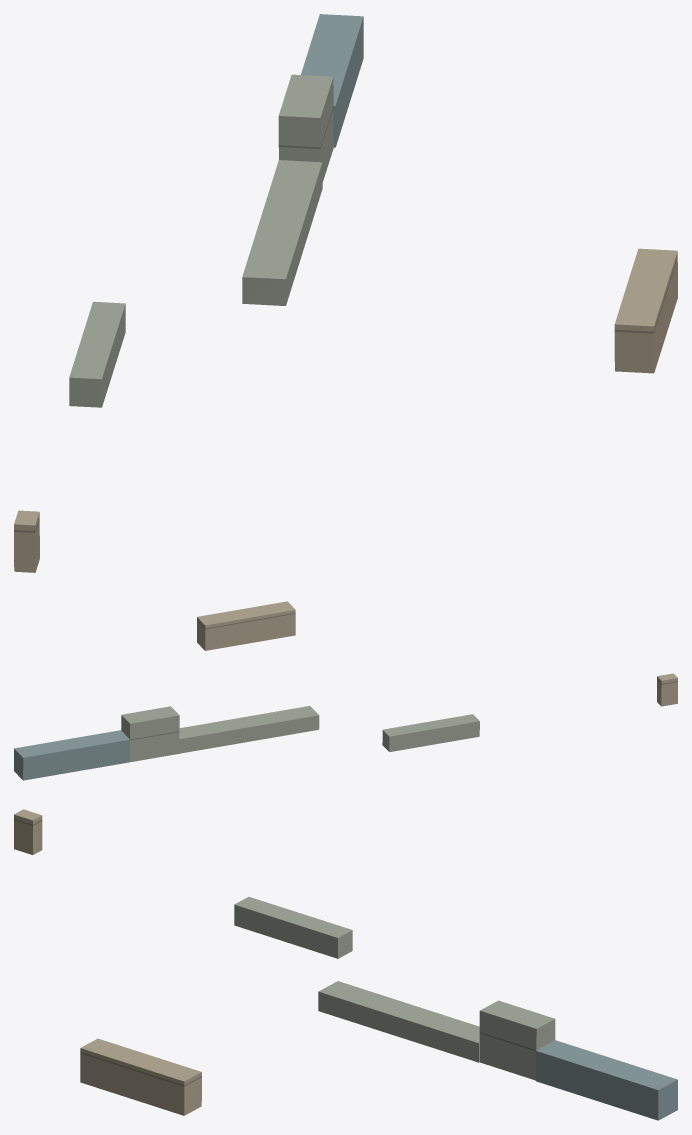
File: terminal-4---136_-17.glb
3 renders of one model, top to bottom at view 1: azimuth 30°, elevation 25°; view 2: azimuth 150°, elevation 25°; view 3: azimuth 270°, elevation 25°, orthographic. The views are drawn at different scales.
Visible parts, largest first — view 1: measured-industrial; view 2: measured-industrial; view 3: measured-industrial.
Part boxes in pixels (x1,y1,x2,y2): measured-industrial: (14,14,677,572); measured-industrial: (14,601,677,780); measured-industrial: (14,809,677,1120).
Size of the model in its own units: 55.43 by 4.97 by 55.7.
